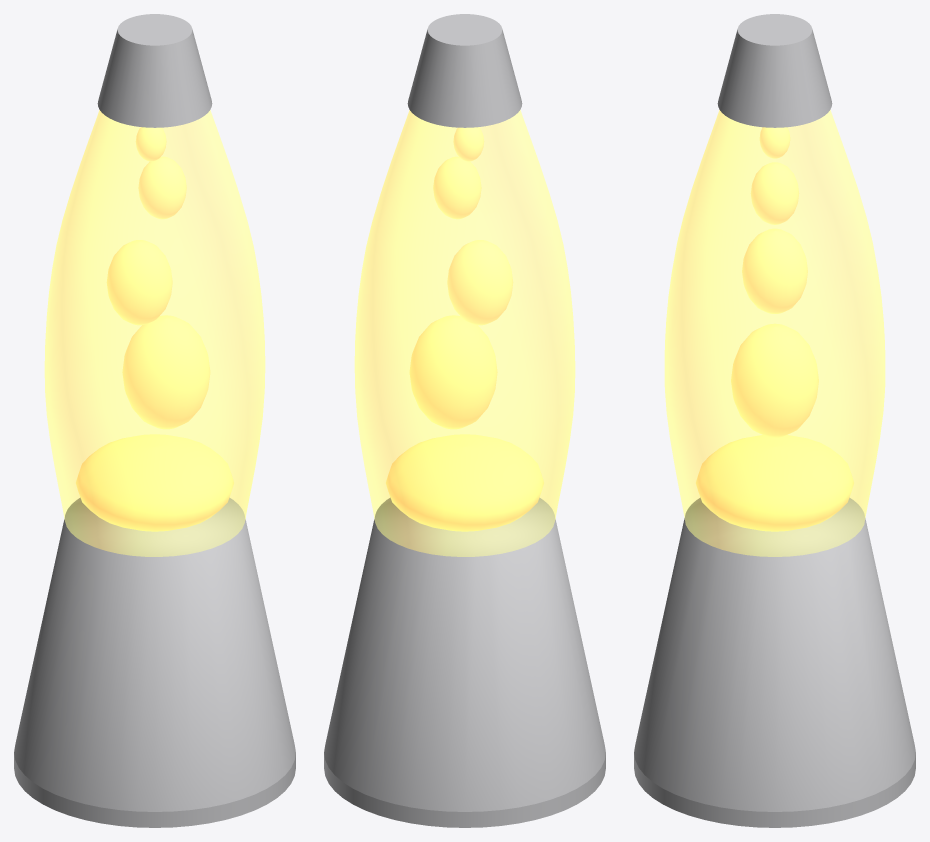
File: obj-lava-lamp-orange.glb
3 renders of one model, left to right at view 1: azimuth 30°, elevation 25°; view 2: azimuth 150°, elevation 25°; view 3: azimuth 270°, elevation 25°, orthographic.
Parts seen in each view (by area): view 1: obj-lava-lamp-orange; view 2: obj-lava-lamp-orange; view 3: obj-lava-lamp-orange.
Boxes of the visible parts, bbox=[...] form: obj-lava-lamp-orange: bbox=[14, 14, 295, 827]; obj-lava-lamp-orange: bbox=[324, 14, 605, 827]; obj-lava-lamp-orange: bbox=[634, 14, 915, 827].
Bounding box in the file's own units: 0.128 × 0.37 × 0.128.
